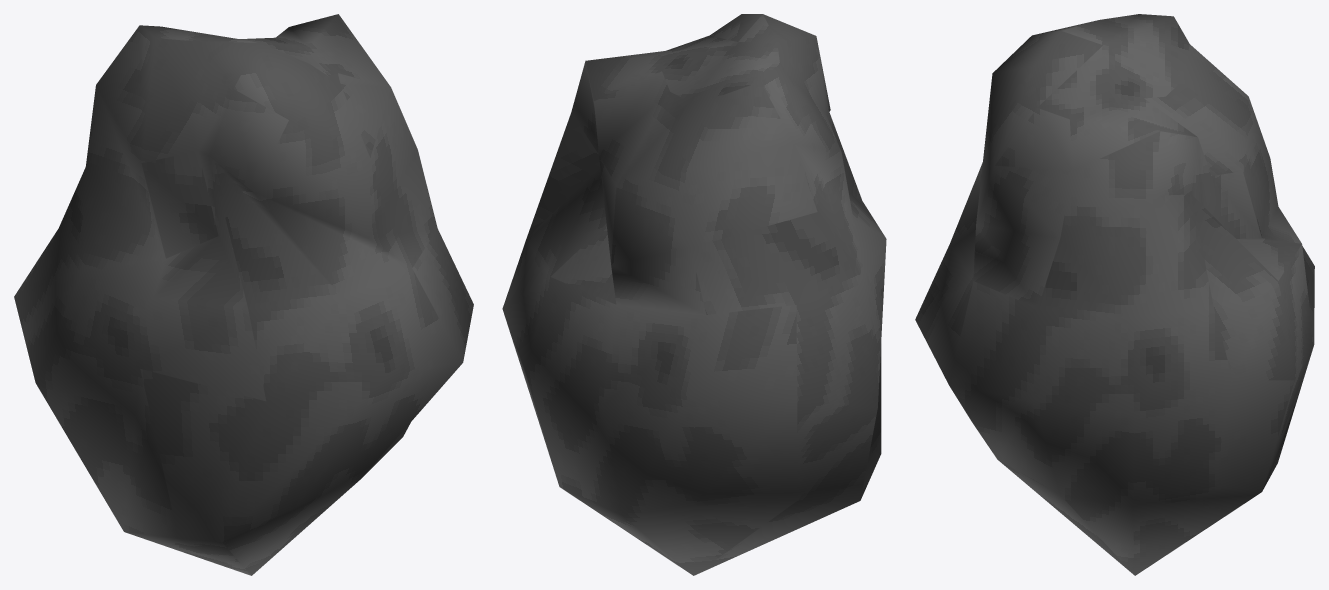
Rendered from Obstacle_Rock.FBX.
3 renders of one model, left to right at view 1: azimuth 30°, elevation 25°; view 2: azimuth 150°, elevation 25°; view 3: azimuth 270°, elevation 25°, orthographic. The views are drawn at different scales.
Visible parts, largest first — view 1: Sphere01; view 2: Sphere01; view 3: Sphere01.
Part boxes in pixels (left/top/right/bottom): Sphere01: left=14, top=14, right=473, bottom=575; Sphere01: left=502, top=14, right=886, bottom=575; Sphere01: left=915, top=14, right=1314, bottom=575.
Size of the model in its own units: 88.49 by 129 by 88.49.
1 material, 1 textured.
